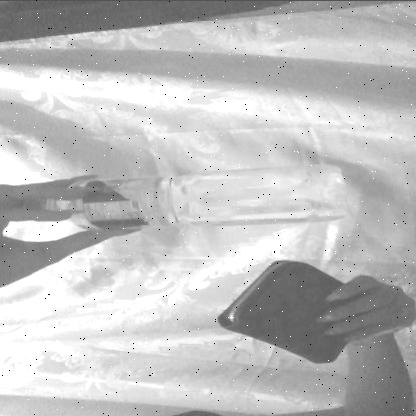Plastic Bottle: (3, 147, 370, 246)
